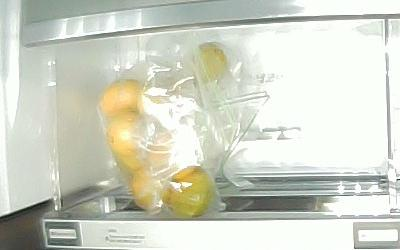tangerine_vinyl: (170, 165, 211, 218), (151, 132, 196, 179), (100, 79, 142, 120), (107, 114, 148, 154), (192, 42, 228, 87), (132, 164, 166, 209)
